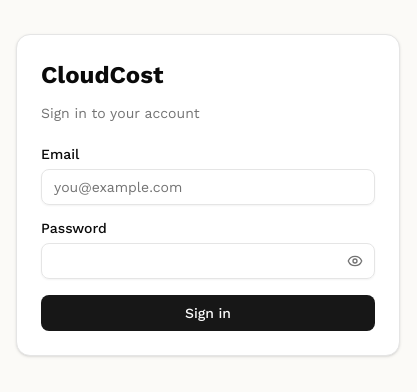
Scenario: LoginPage — form field state › clears the error message when the user starts a new login attempt
// First (failed) attempt
Type "bad@example.com" into the field labelled "Email".
click(208, 187); type("bad@example.com")  # box [41, 169, 375, 205]
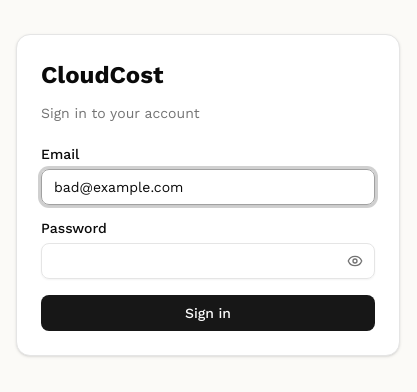
Type "wrong" into the password field labelled "Password".
click(208, 261); type("wrong")  # box [41, 243, 375, 279]
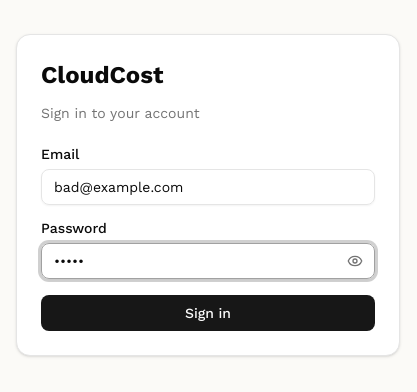
Click the button "Sign in".
click(208, 313)  # box [41, 295, 375, 331]
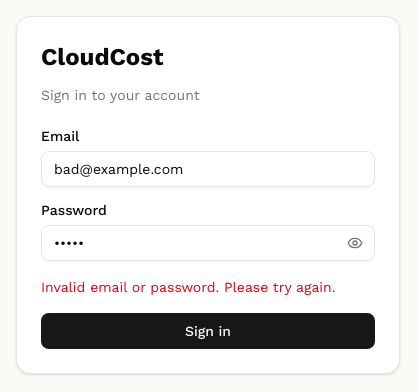
Now the text "Invalid email or password. Please try again." is shown, box [41, 277, 375, 297]
Click the button "Sign in".
click(208, 331)  # box [41, 313, 375, 349]
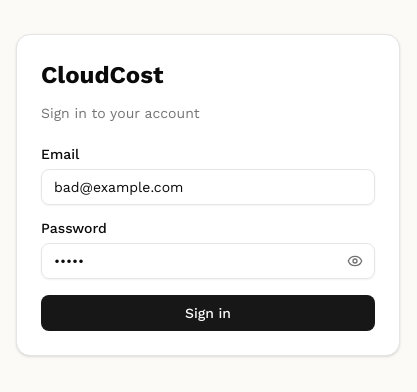
Now the text "Invalid email or password" is gone
